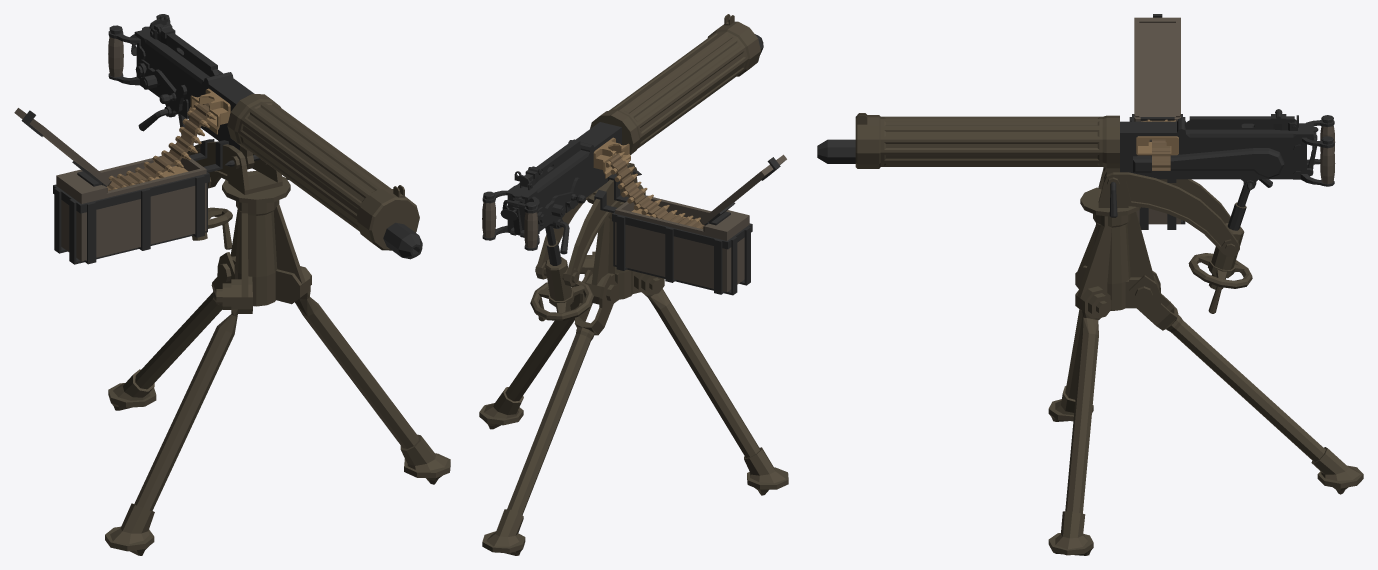
The model's file is Wep_Vicers_01.fbx.
The picture shows the model from 3 angles, left to right: view 1: azimuth 30°, elevation 25°; view 2: azimuth 150°, elevation 25°; view 3: azimuth 270°, elevation 25°; orthographic projection. The views are drawn at different scales.
Parts seen in each view (by area): view 1: Wep_Vicers_Gun_01_LOD0, Wep_Vicers_01_LOD0, Wep_Vicers_Magazine_02_LOD0, Wep_Vicers_Magazine_01_LOD0; view 2: Wep_Vicers_Gun_01_LOD0, Wep_Vicers_01_LOD0, Wep_Vicers_Magazine_02_LOD0, Wep_Vicers_Magazine_01_LOD0; view 3: Wep_Vicers_Gun_01_LOD0, Wep_Vicers_01_LOD0, Wep_Vicers_Magazine_02_LOD0.
Boxes of the visible parts, left/top/right/bottom form: Wep_Vicers_Gun_01_LOD0: left=108, top=14, right=422, bottom=259; Wep_Vicers_01_LOD0: left=105, top=170, right=450, bottom=555; Wep_Vicers_Magazine_02_LOD0: left=14, top=102, right=216, bottom=261; Wep_Vicers_Magazine_01_LOD0: left=53, top=139, right=228, bottom=264; Wep_Vicers_Gun_01_LOD0: left=482, top=14, right=763, bottom=321; Wep_Vicers_01_LOD0: left=479, top=184, right=788, bottom=555; Wep_Vicers_Magazine_02_LOD0: left=606, top=150, right=786, bottom=291; Wep_Vicers_Magazine_01_LOD0: left=594, top=173, right=752, bottom=295; Wep_Vicers_Gun_01_LOD0: left=817, top=109, right=1335, bottom=313; Wep_Vicers_01_LOD0: left=1048, top=187, right=1363, bottom=555; Wep_Vicers_Magazine_02_LOD0: left=1134, top=14, right=1180, bottom=224.
Size of what is drawn, in the model's own units: 90.43 by 95.06 by 123.
